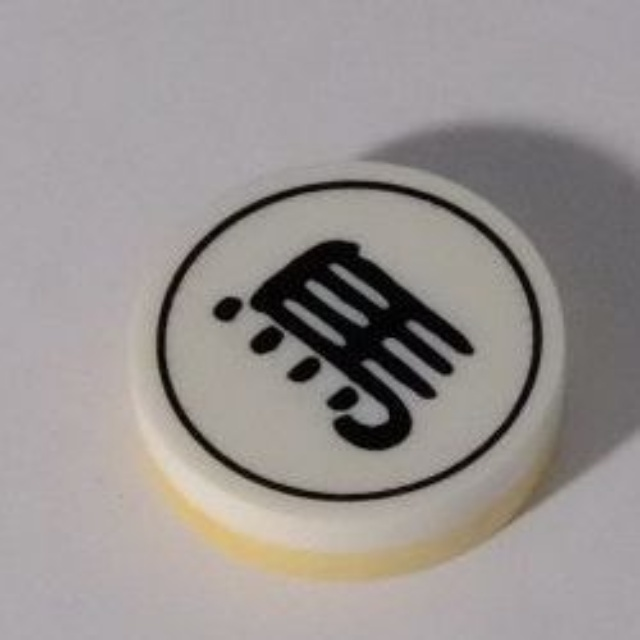black_ma: (120, 157, 577, 579)
